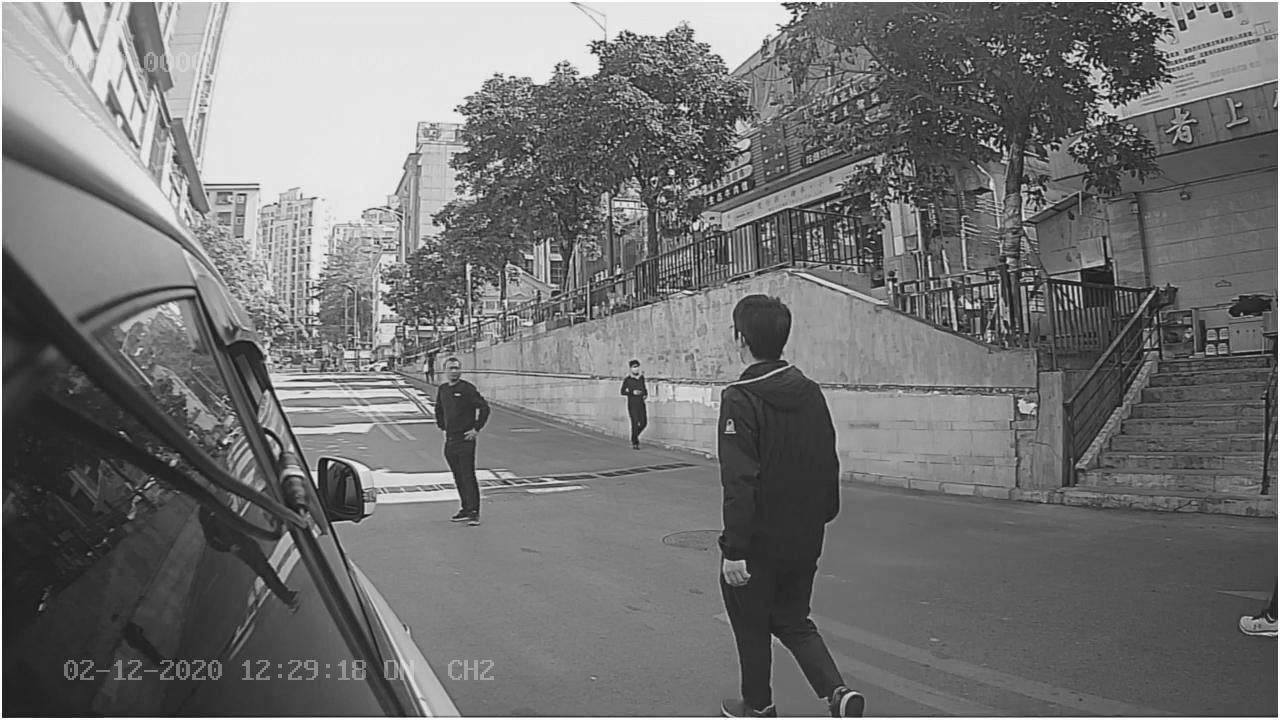person: (708, 293, 862, 587), (424, 353, 502, 531)
